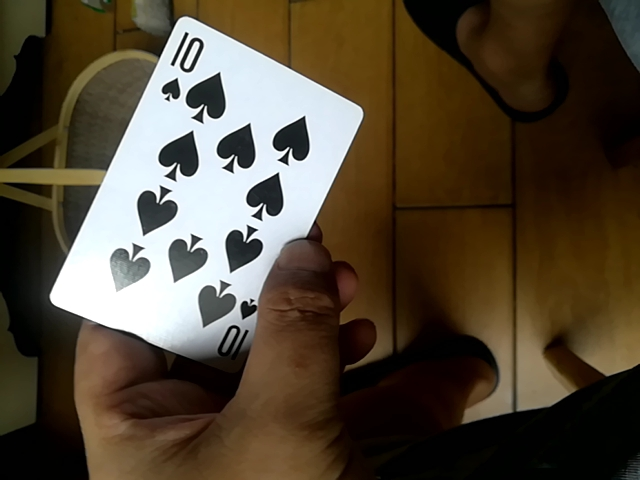ht 10: (48, 16, 368, 373)
